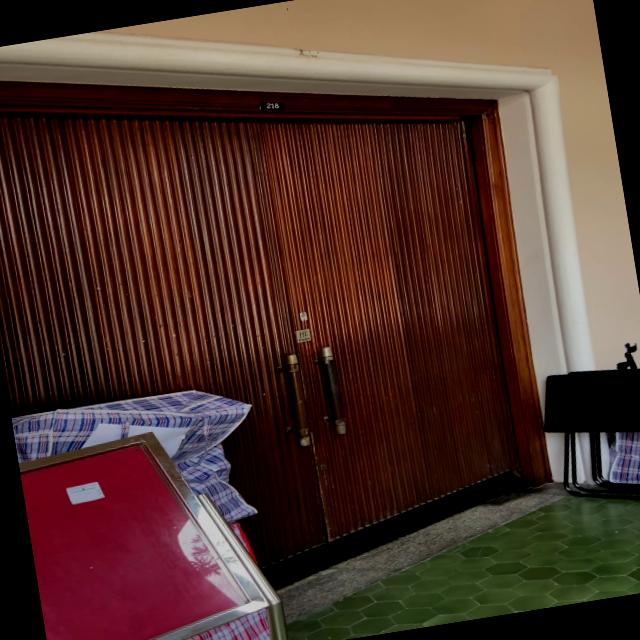room218: (260, 98, 286, 114)
